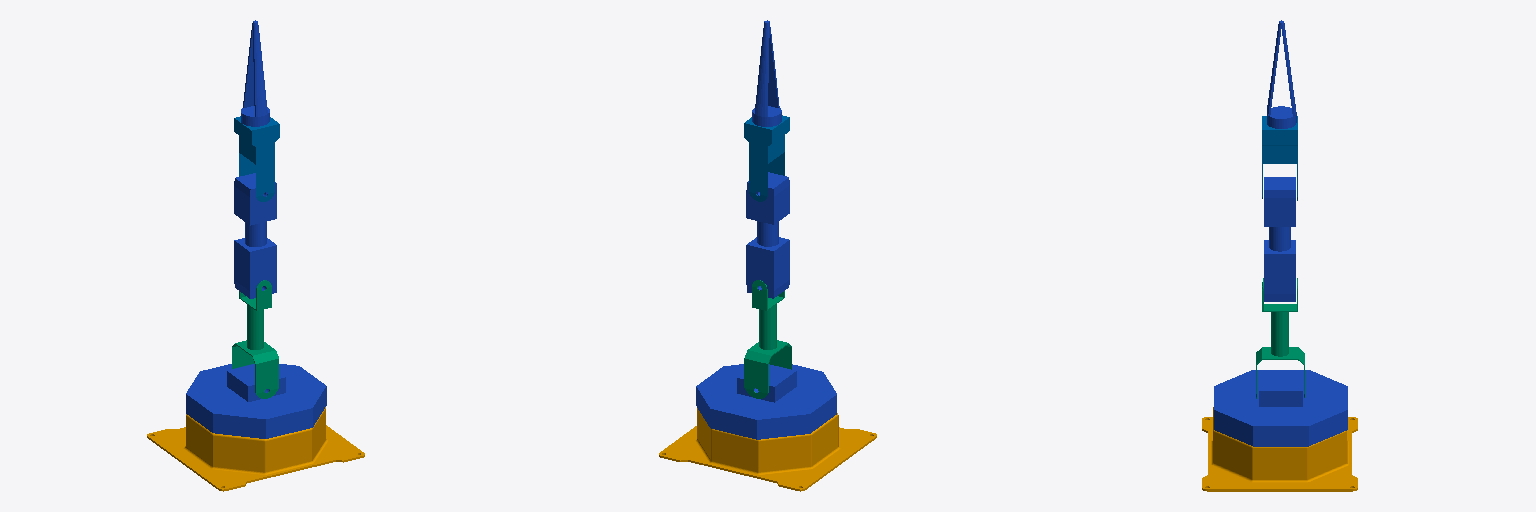
robot.urdf — five_dof_arm:
<?xml version="1.0" ?>
<!-- =================================================================================== -->
<!-- |    This document was autogenerated by xacro from arm.urdf.xacro                 | -->
<!-- |    EDITING THIS FILE BY HAND IS NOT RECOMMENDED                                 | -->
<!-- =================================================================================== -->
<robot name="five_dof_arm">
  <!-- Base 1: fixed base -->
  <link name="base_link">
    <visual>
      <origin rpy="0 0 0" xyz="-0.077 -0.070 0"/>
      <geometry>
        <mesh filename="../ros2_ws/src/five_dof_arm/meshes/Base1.STL" scale="0.001 0.001 0.001"/>
        five_dof_arm\meshes
      </geometry>
    </visual>
  </link>
  <!-- Joint 1: rotating base -->
  <link name="base2_link">
    <visual>
      <origin rpy="0 0 0" xyz="-0.06 -0.06 0.0"/>
      <geometry>
        <mesh filename="../ros2_ws/src/five_dof_arm/meshes/Base2.STL" scale="0.001 0.001 0.001"/>
      </geometry>
      <material name="base2_blue">
        <color rgba="0.15 0.35 0.8 1.0"/>
      </material>
    </visual>
  </link>
  <joint name="joint1" type="revolute">
    <parent link="base_link"/>
    <child link="base2_link"/>
    <origin rpy="0 0 0" xyz="0 0 0.037"/>
    <axis xyz="0 0 1"/>
    <limit effort="10" lower="-3.14159" upper="3.14159" velocity="1.0"/>
  </joint>
  <!-- Joint 2: first arm -->
  <link name="link1">
    <visual>
      <origin rpy="0 0 0" xyz="-0.013 -0.022 -0.008"/>
      <geometry>
        <mesh filename="../ros2_ws/src/five_dof_arm/meshes/Link1.STL" scale="0.001 0.001 0.001"/>
      </geometry>
    </visual>
  </link>
  <joint name="joint2" type="revolute">
    <parent link="base2_link"/>
    <child link="link1"/>
    <origin rpy="0 0 0" xyz="0 0 0.028"/>
    <axis xyz="0 1 0"/>
    <limit effort="10" lower="-1.5708" upper="1.5708" velocity="1.0"/>
  </joint>
  <!-- Joint 3: second arm -->
  <link name="link2">
    <visual>
      <origin rpy="0 0 0" xyz="-0.0148 -0.0145 -0.008"/>
      <geometry>
        <mesh filename="../ros2_ws/src/five_dof_arm/meshes/Link2.STL" scale="0.001 0.001 0.001"/>
      </geometry>
      <material name="base2_blue">
        <color rgba="0.15 0.35 0.8 1.0"/>
      </material>
    </visual>
  </link>
  <joint name="joint3" type="revolute">
    <parent link="link1"/>
    <child link="link2"/>
    <origin rpy="0 0 0" xyz="0 0 0.101"/>
    <axis xyz="0 1 0"/>
    <limit effort="8" lower="-2.0" upper="2.0" velocity="1.0"/>
  </joint>
  <!-- Joint 4: second arm -->
  <link name="link3">
    <visual>
      <origin rpy="0 0 0" xyz="-0.014 -0.016 -0.008"/>
      <geometry>
        <mesh filename="../ros2_ws/src/five_dof_arm/meshes/Link3.STL" scale="0.001 0.001 0.001"/>
      </geometry>
    </visual>
  </link>
  <joint name="joint4" type="revolute">
    <parent link="link2"/>
    <child link="link3"/>
    <origin rpy="0 0 0" xyz="0 0 0.095"/>
    <axis xyz="0 1 0"/>
    <limit effort="8" lower="-2.0" upper="2.0" velocity="1.0"/>
  </joint>
  <!-- Joint 5: Gripper connects here -->
  <link name="link4">
    <visual>
      <origin rpy="0 0 0" xyz="-0.0135 -0.0135 0"/>
      <geometry>
        <mesh filename="../ros2_ws/src/five_dof_arm/meshes/Link4.STL" scale="0.001 0.001 0.001"/>
      </geometry>
      <material name="base2_blue">
        <color rgba="0.15 0.35 0.8 1.0"/>
      </material>
    </visual>
  </link>
  <joint name="joint5" type="revolute">
    <parent link="link3"/>
    <child link="link4"/>
    <origin rpy="0 0 0" xyz="0 0 0.068"/>
    <axis xyz="0 0 1"/>
    <limit effort="10" lower="-3.14159" upper="3.14159" velocity="1.0"/>
  </joint>
</robot>

--- What the picture shows (computed from the rendered views, not written in the file) ---
The picture shows the robot from 3 angles, left to right: view 1: azimuth 30°, elevation 25°; view 2: azimuth 150°, elevation 25°; view 3: azimuth 270°, elevation 25°; orthographic projection.
Model five_dof_arm with 6 links and 5 joints (5 revolute), rooted at base_link, posed every joint at zero.
Visible links, largest first — view 1: base_link, base2_link, link2, link1, link3, link4; view 2: base_link, base2_link, link2, link1, link3, link4; view 3: base2_link, base_link, link2, link1, link3, link4.
Link boxes in pixels (x1=…): base_link: x1=147, y1=407, x2=364, y2=491; base2_link: x1=186, y1=364, x2=326, y2=438; link2: x1=234, y1=173, x2=276, y2=298; link1: x1=232, y1=280, x2=278, y2=398; link3: x1=234, y1=116, x2=279, y2=201; link4: x1=241, y1=20, x2=269, y2=126; base_link: x1=659, y1=408, x2=876, y2=491; base2_link: x1=696, y1=364, x2=836, y2=439; link2: x1=746, y1=172, x2=789, y2=298; link1: x1=744, y1=280, x2=791, y2=398; link3: x1=744, y1=115, x2=789, y2=201; link4: x1=752, y1=20, x2=781, y2=126; base2_link: x1=1214, y1=370, x2=1347, y2=446; base_link: x1=1202, y1=407, x2=1357, y2=491; link2: x1=1264, y1=177, x2=1295, y2=301; link1: x1=1256, y1=278, x2=1304, y2=398; link3: x1=1262, y1=116, x2=1297, y2=200; link4: x1=1267, y1=20, x2=1296, y2=128.
Size in the robot's own frame: 0.154 by 0.14 by 0.429 metres.
6 mesh visuals loaded from 6 distinct referenced files (6 binary STL).
